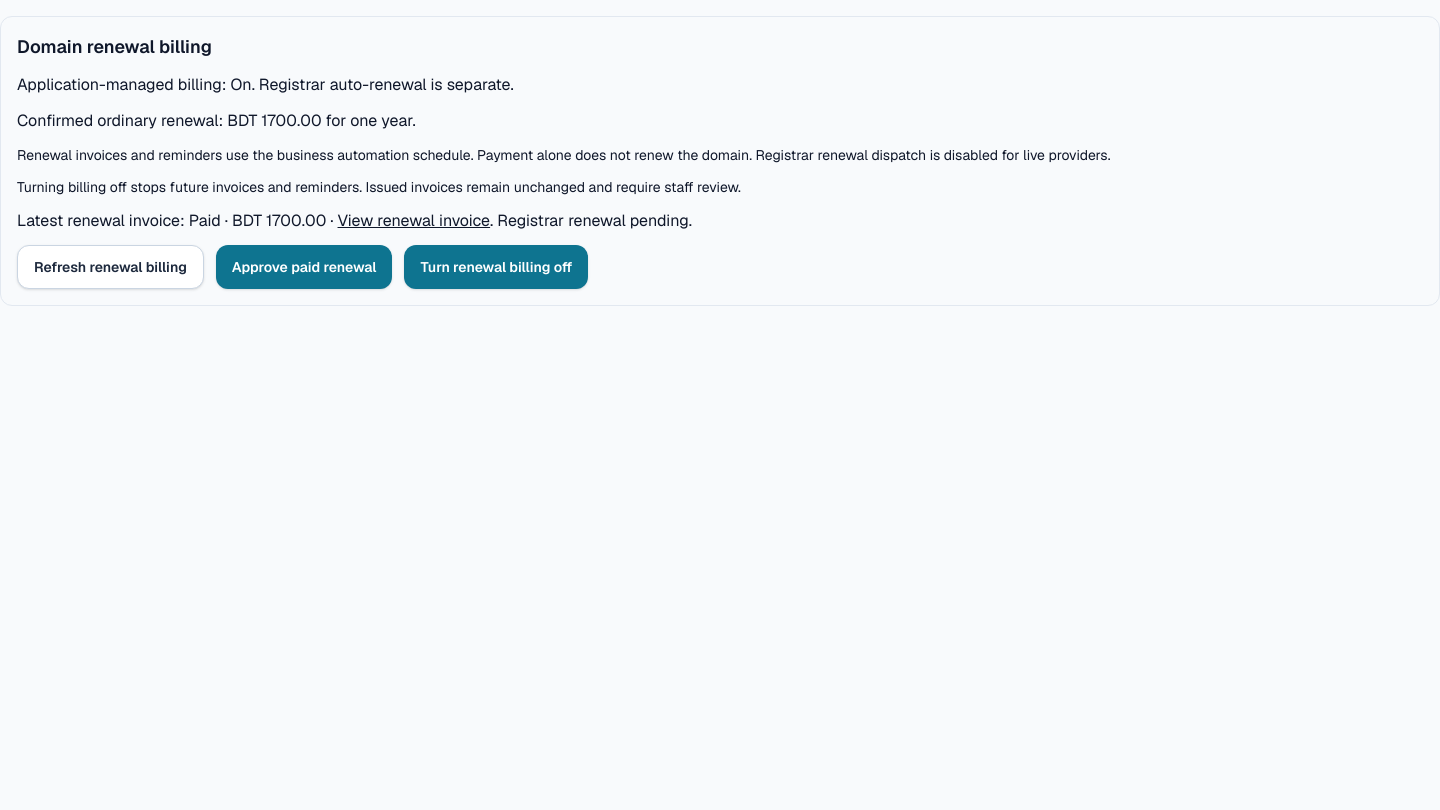
Test: requires a paid-renewal confirmation, review reason and exact USD cost ceiling before queueing
Click the button "Approve paid renewal" at (304, 267), box [216,245,392,289]
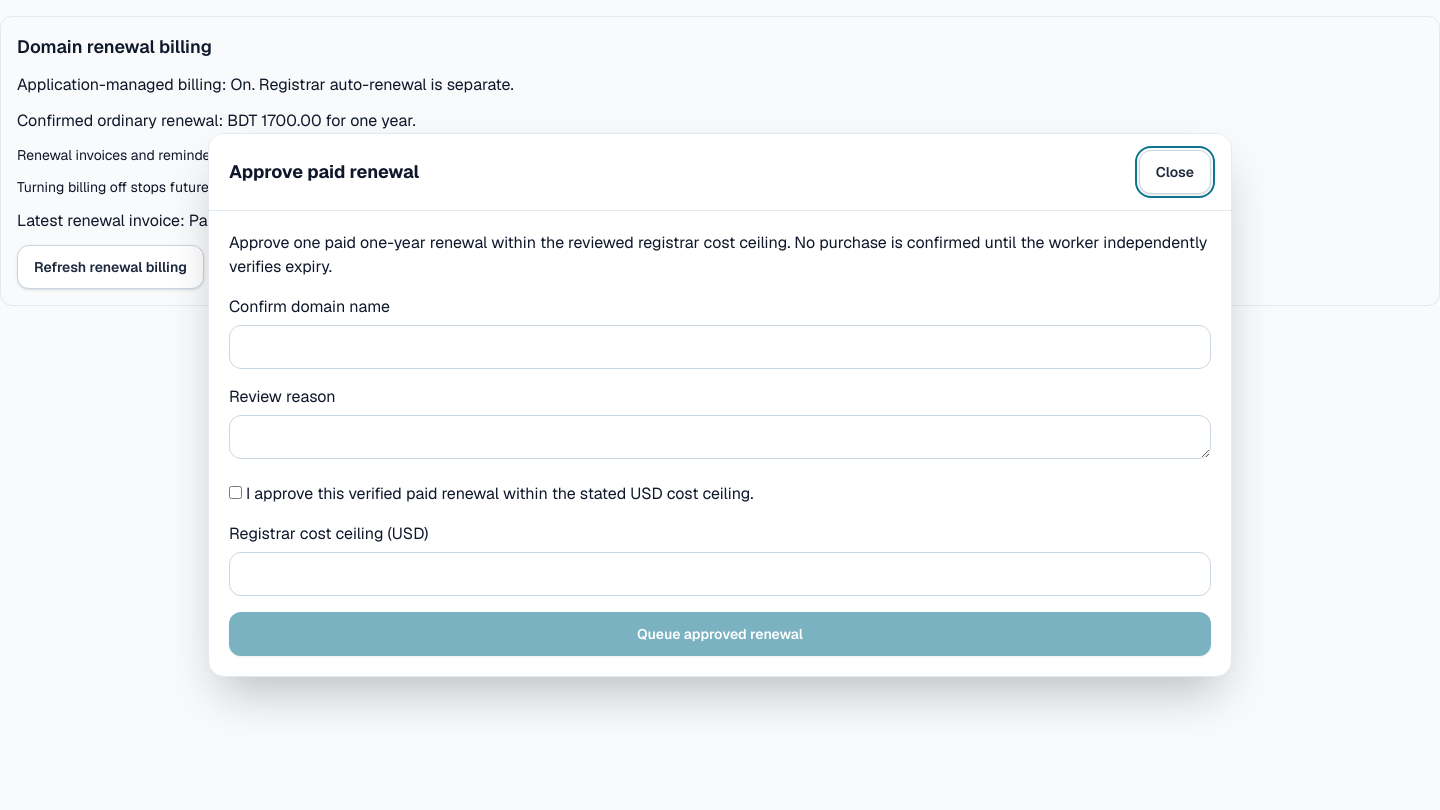
Expected: the button "Queue approved renewal" is disabled, [229,612,1211,656]
Type "fictional.com" into the field labelled "Confirm domain name" at (720, 347), box [229,325,1211,369]
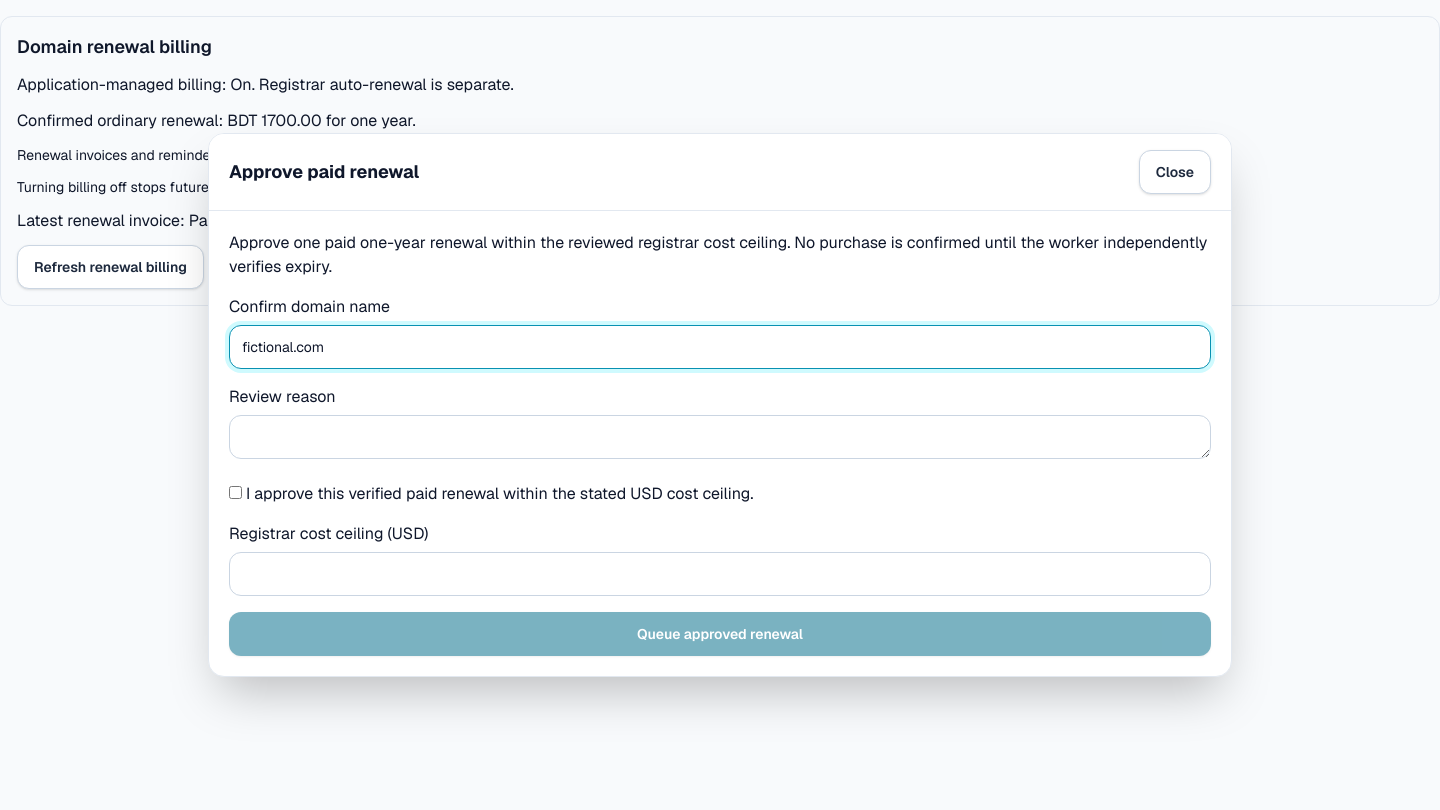
Type "Verified" into the text box labelled "Review reason" at (720, 437), box [229,415,1211,459]
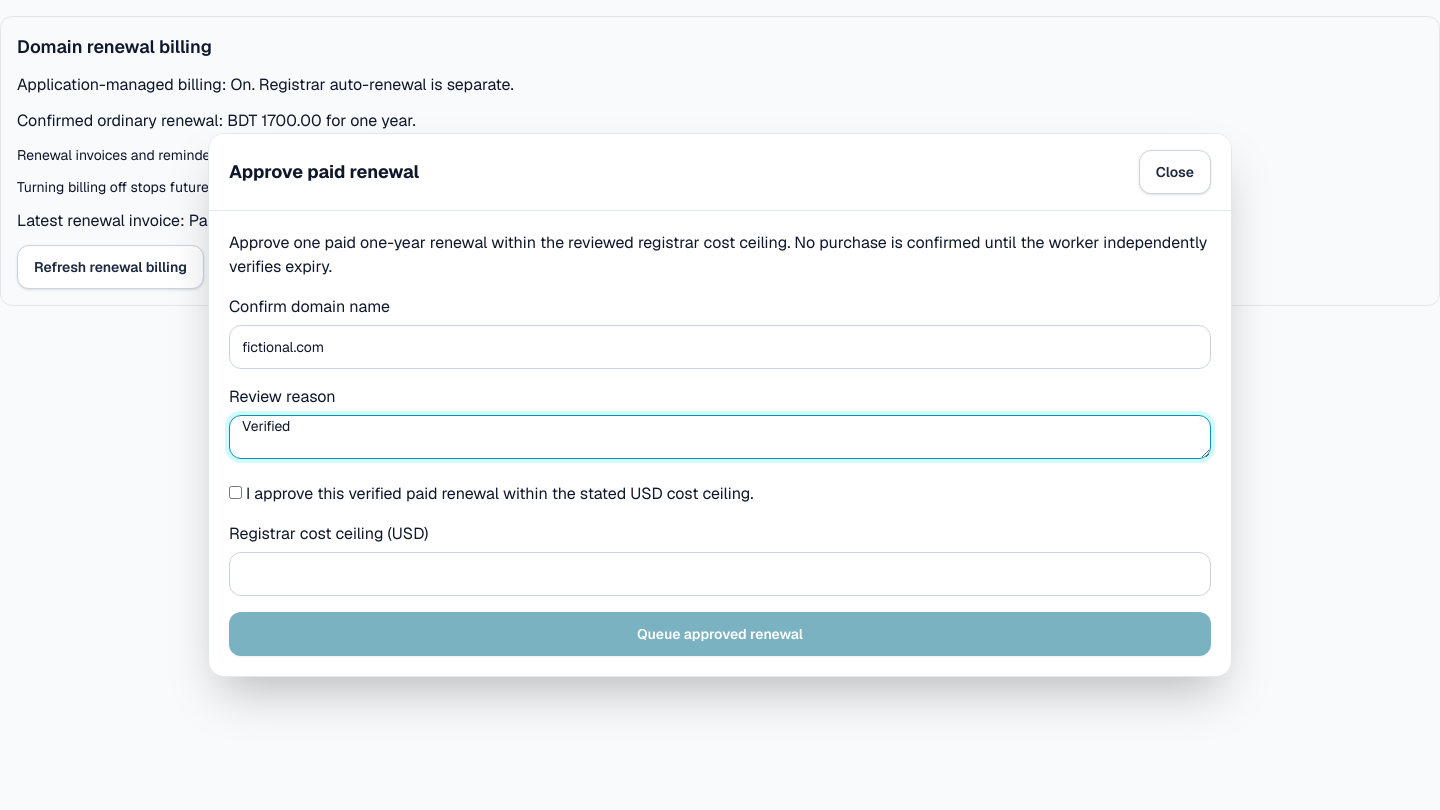
Type "10.00" into the field labelled "Registrar cost ceiling (USD)" at (720, 574), box [229,552,1211,596]
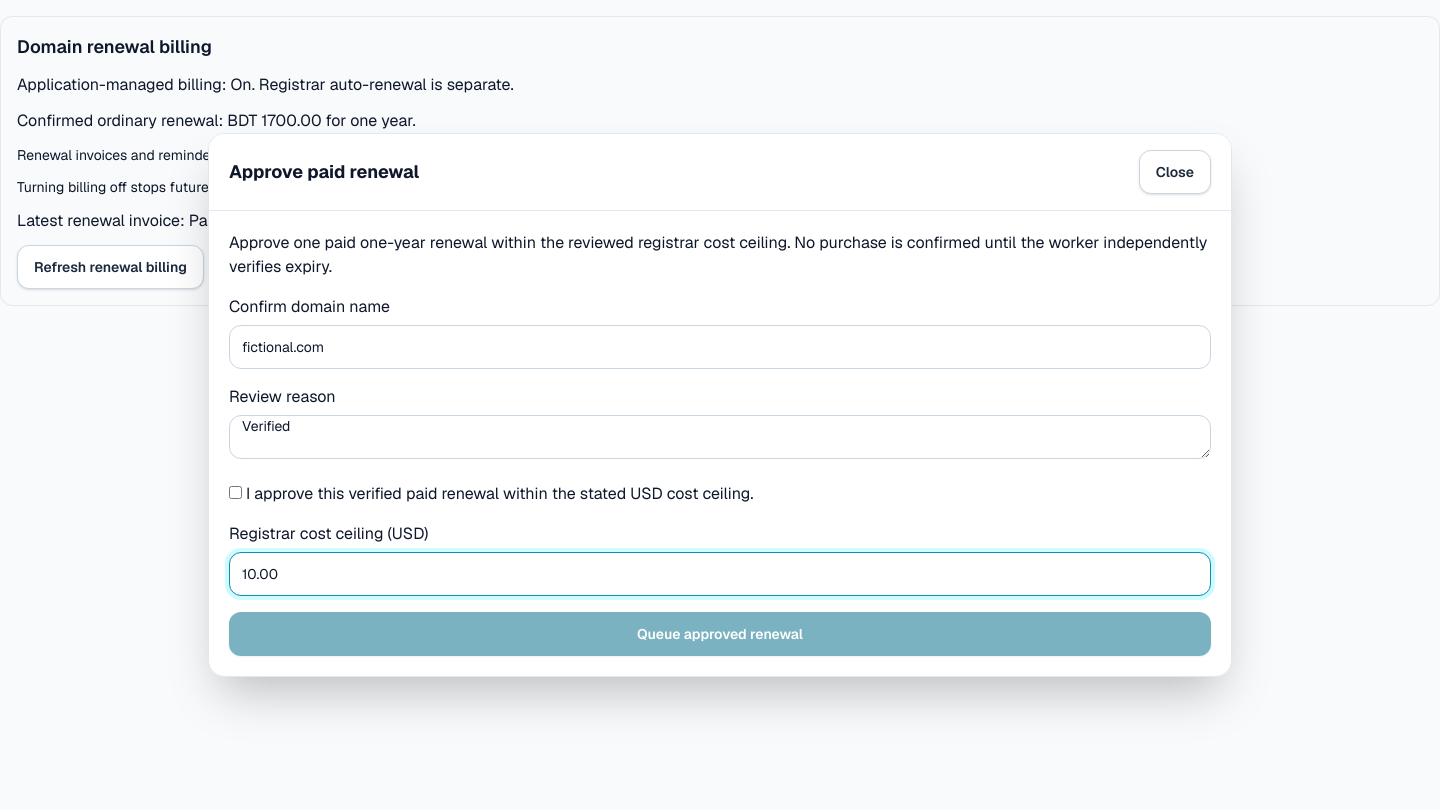
Click the checkbox at (236, 492), box [229,486,242,499]
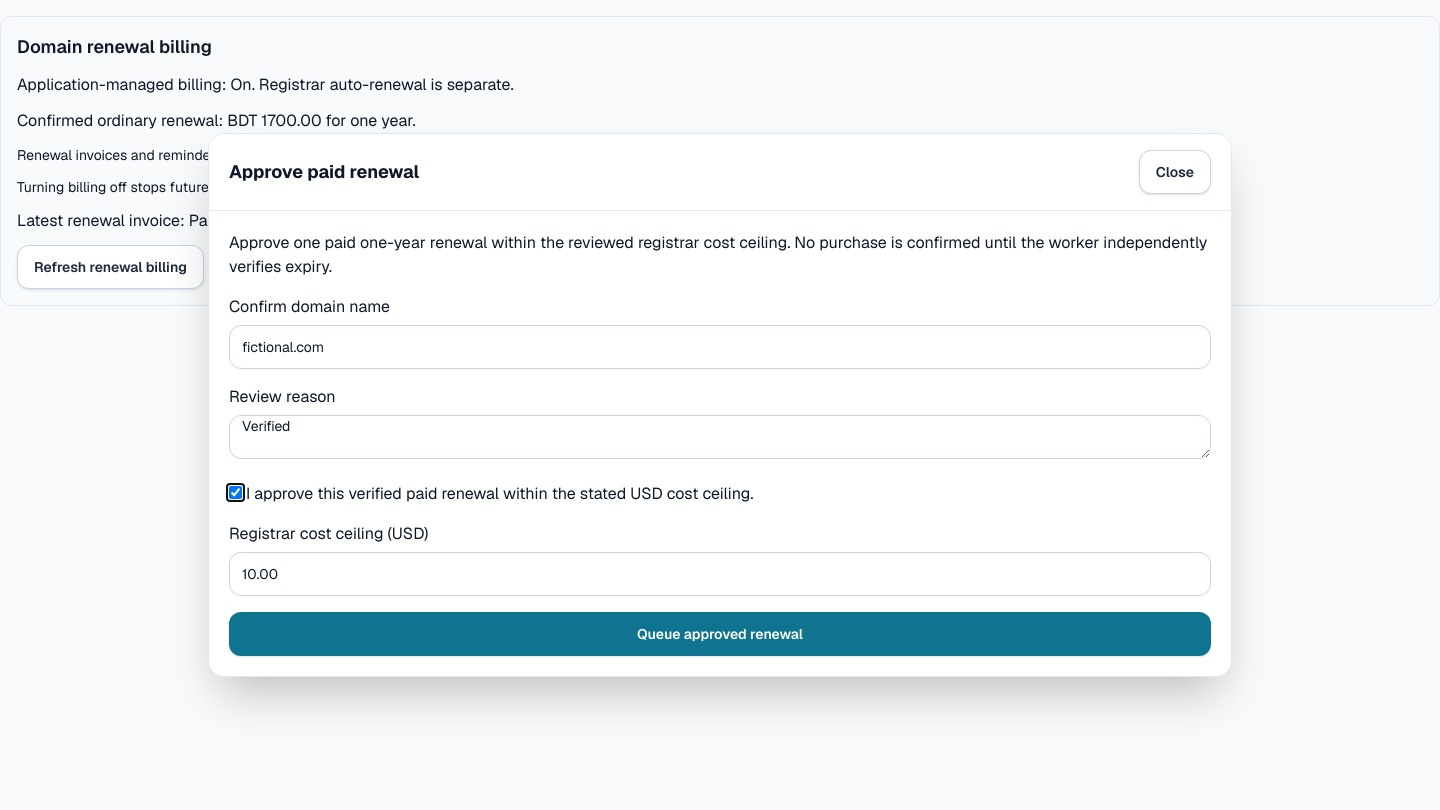
Click the button "Queue approved renewal" at (720, 634), box [229,612,1211,656]
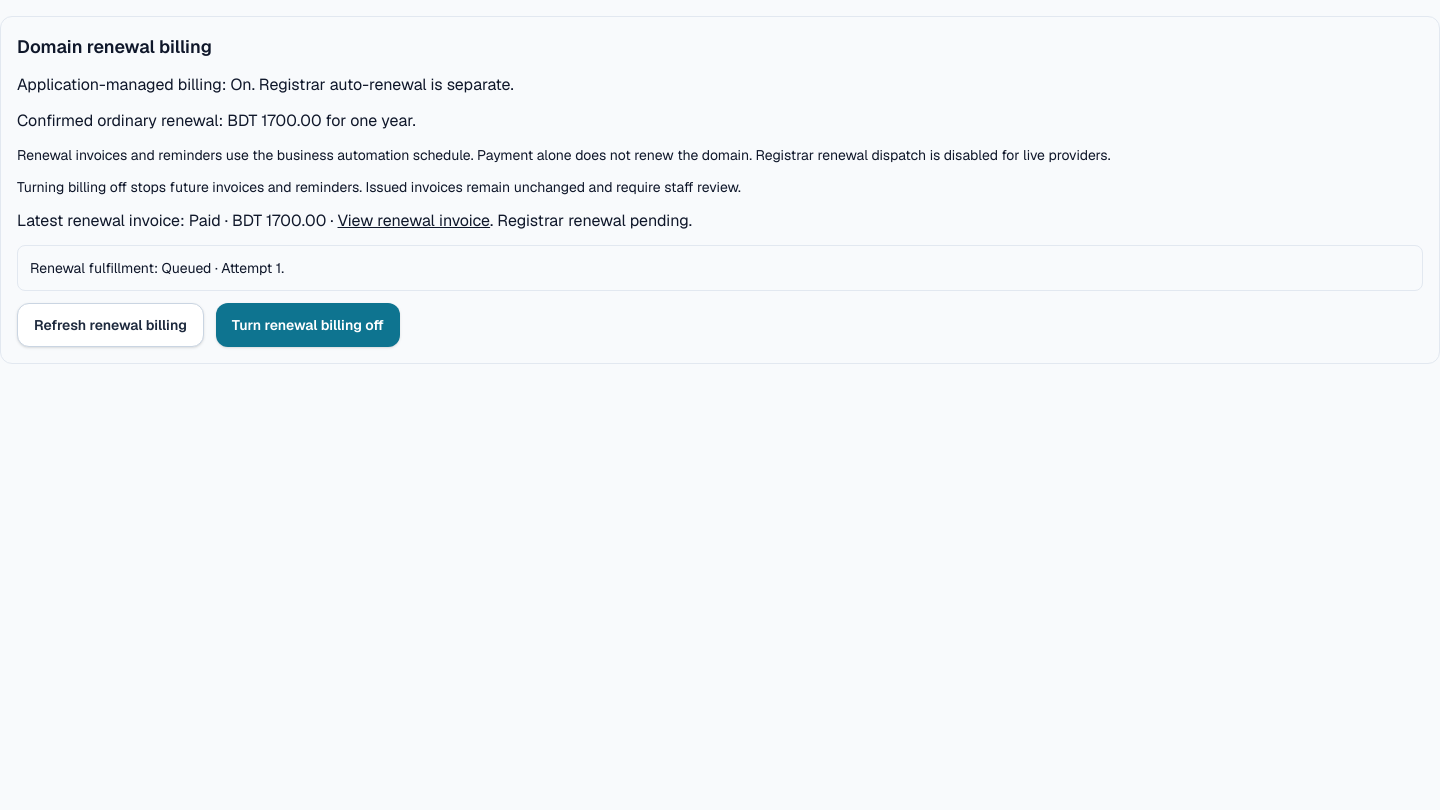
Expected: the text "Renewal fulfillment: Queued · Attempt 1." is shown, [30,259,284,277]
